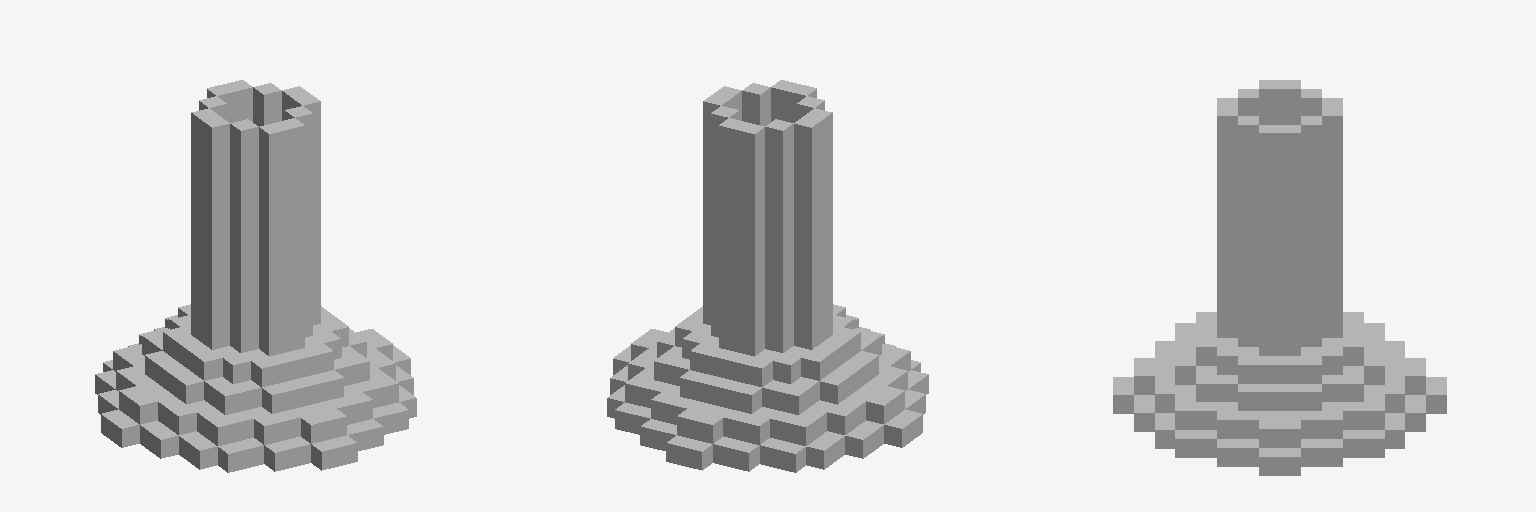
Rendered from st_pillar_base_corr.obj.
The picture shows the model from 3 angles: view 1: azimuth 30°, elevation 25°; view 2: azimuth 150°, elevation 25°; view 3: azimuth 270°, elevation 25°; orthographic projection.
Parts seen in each view (by area): view 1: st_pillar_base; view 2: st_pillar_base; view 3: st_pillar_base.
Part boxes in pixels (bbox=[...]): st_pillar_base: bbox=[95, 80, 416, 472]; st_pillar_base: bbox=[607, 80, 928, 472]; st_pillar_base: bbox=[1113, 80, 1446, 475].
Size of the model in its own units: 1.02 by 0.9981 by 1.02.